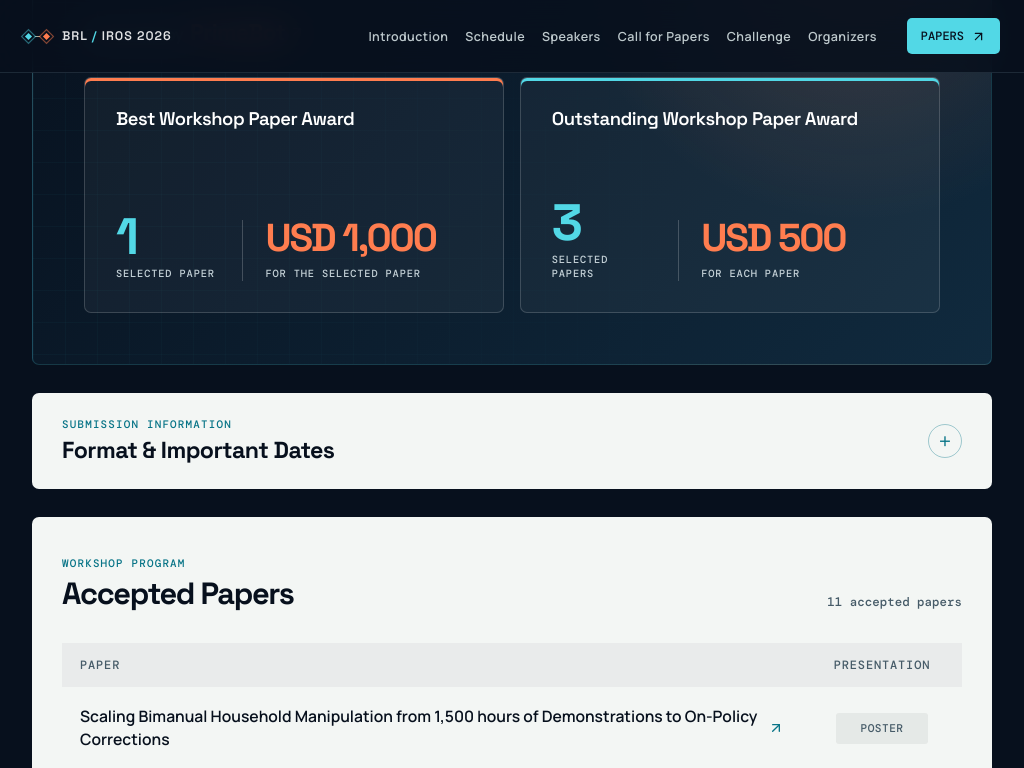
workshop landing page › shows the extended submission deadline while retaining the previous deadline
(page scrolled)
Click the text "Submission information" at x=147, y=424, box [62,417,232,431]
(page scrolled)
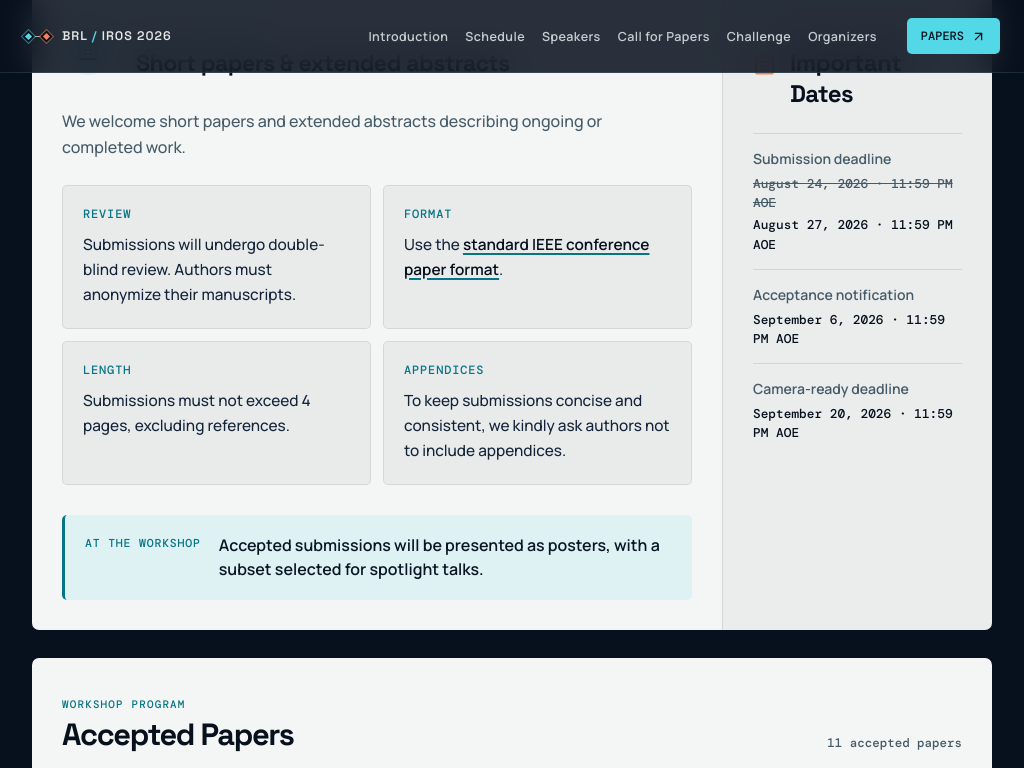
expect the text "September 6, 2026 · 11:59 PM AOE" is shown: met, box [753,310,962,348]
expect the text "September 20, 2026 · 11:59 PM AOE" is shown: met, box [753,404,962,442]
